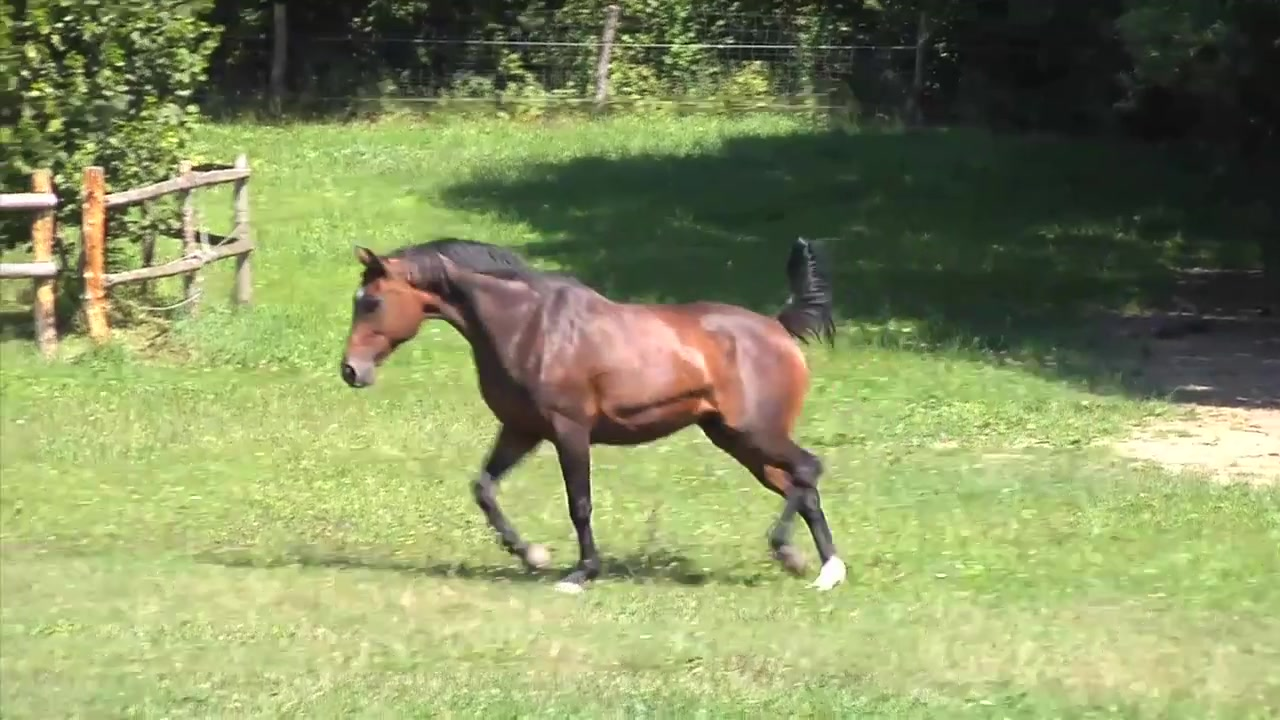horse: (339, 235, 852, 597)
